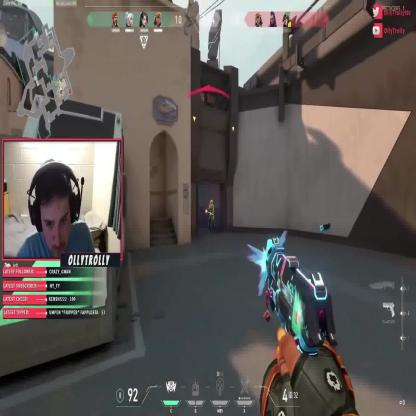enemy: (207, 199, 216, 232)
enemy_head: (210, 199, 213, 206)
